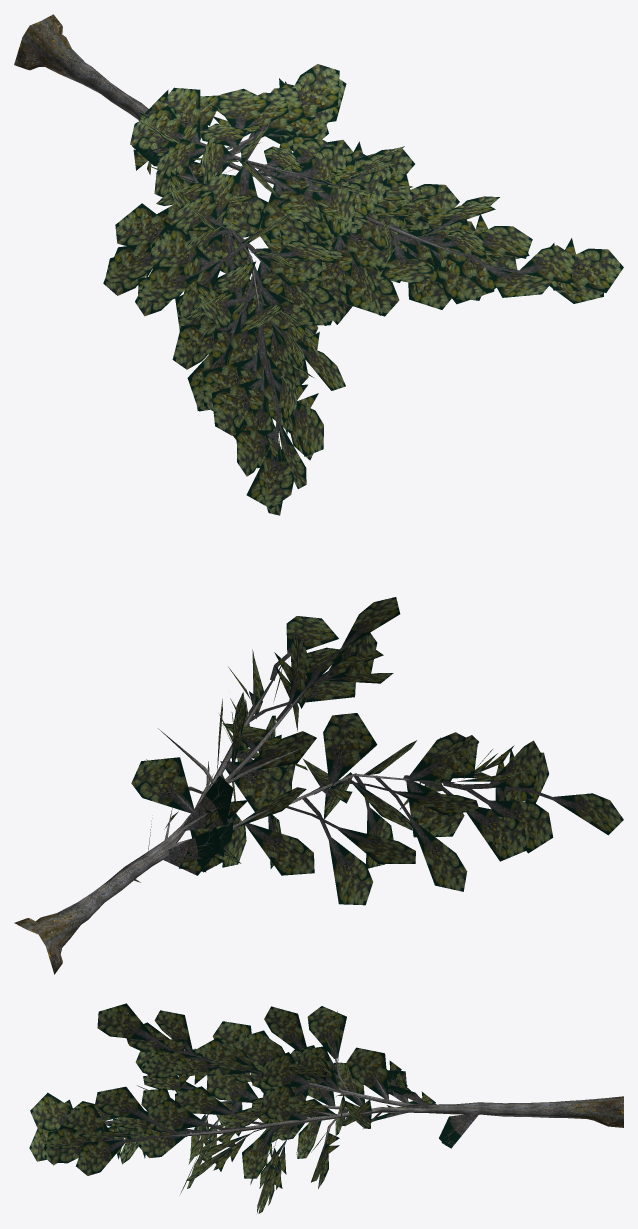
The model's file is tree_river_birch_xl_a.glb.
3 views of the same model, one above another, from view 1: azimuth 30°, elevation 25°; view 2: azimuth 150°, elevation 25°; view 3: azimuth 270°, elevation 25° (orthographic). The views are drawn at different scales.
Size of the model in its own units: 349 by 263 by 681.
Materials: 2 (2 with a texture image).
